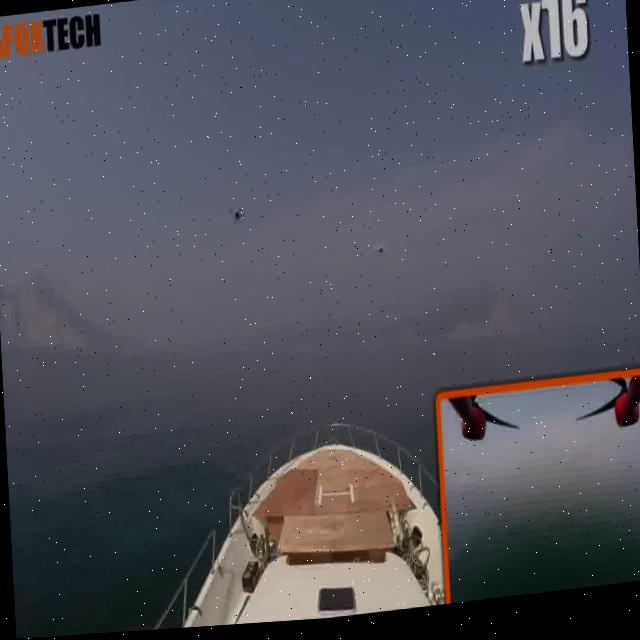drone: (222, 186, 258, 255), (375, 238, 392, 272)
